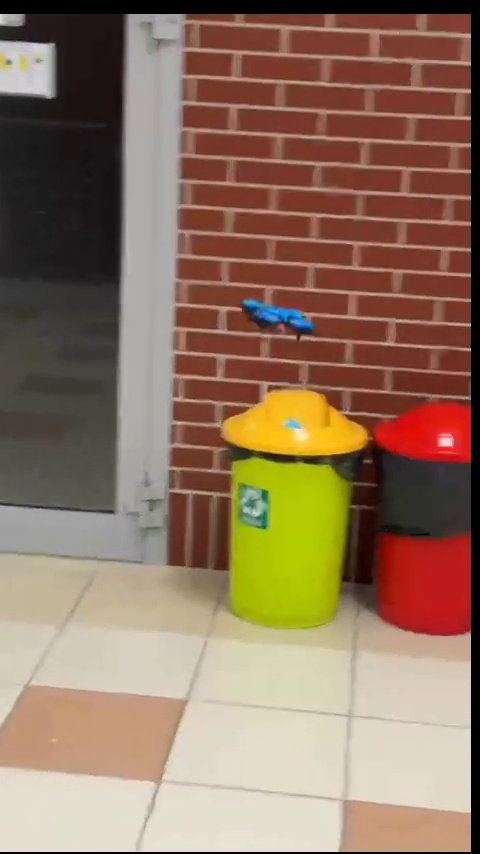drone: (242, 298, 319, 343)
